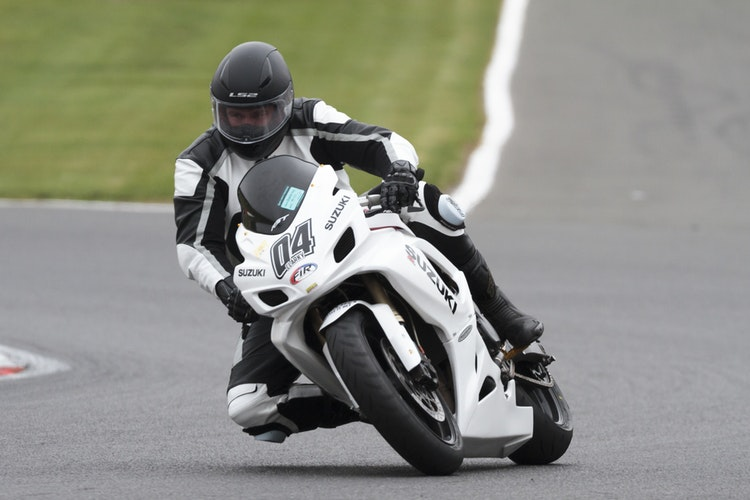helmet: (208, 45, 297, 128)
